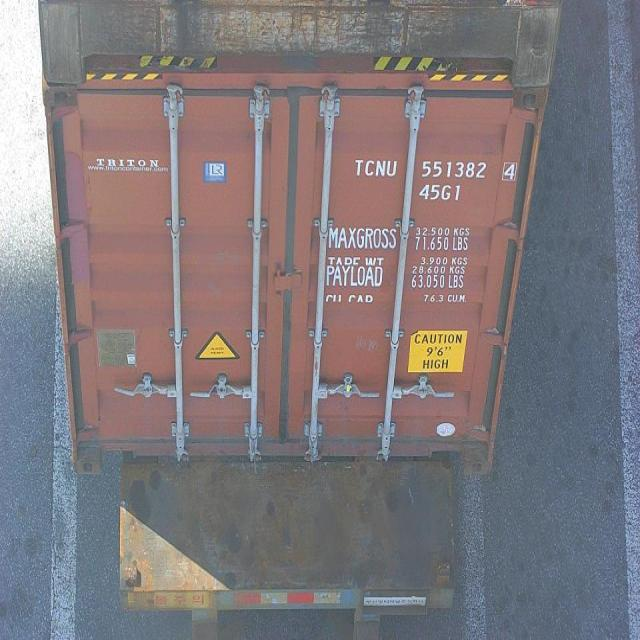ISO: (419, 182, 462, 202)
container_number: (360, 157, 520, 180)
